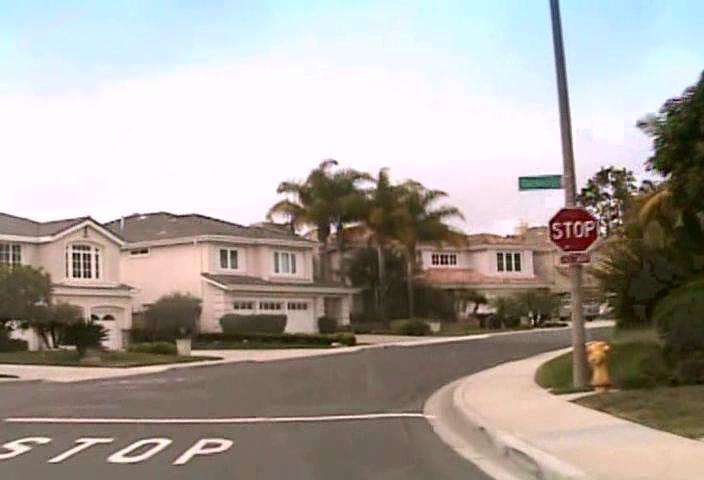stop: (548, 206, 599, 252)
